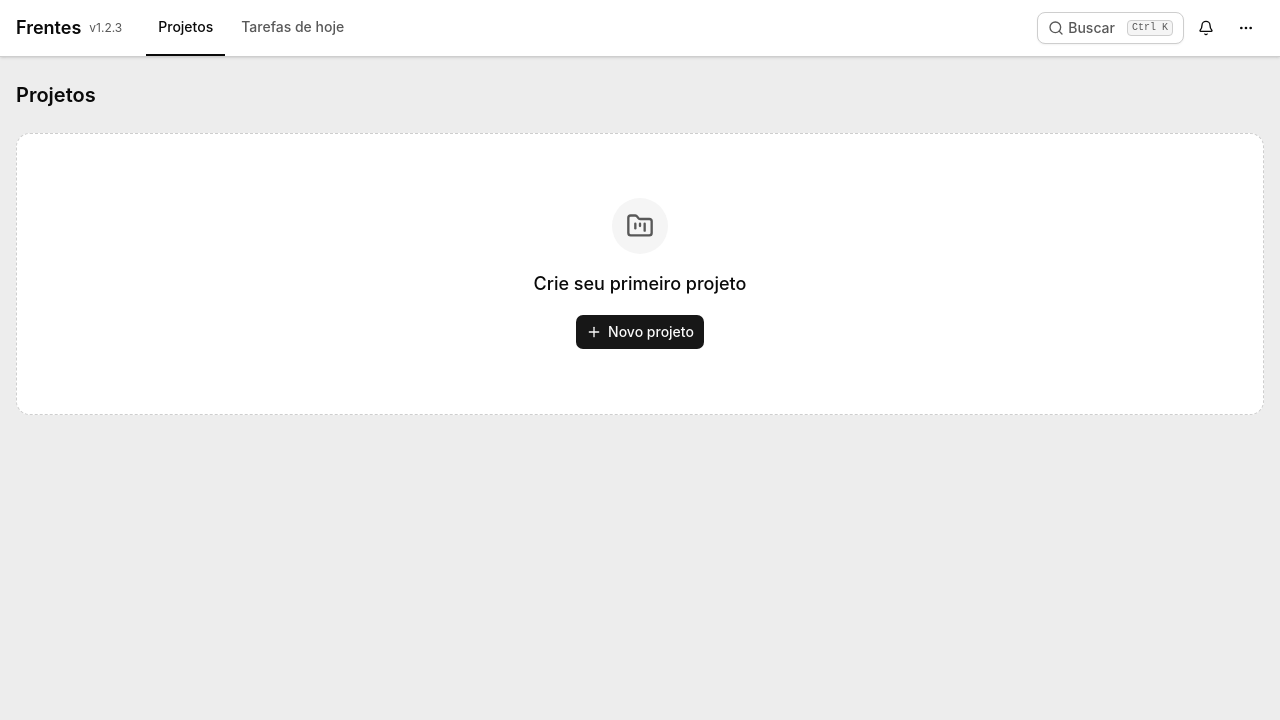
it: BuscaGlobal (01 §3, RN-120..121) › mostra os resultados por tipo, com projeto, "Arquivado" e o destino certo
This screenshot has width=1280, height=720.
Click the button "Buscar Ctrl K" at (1111, 28), box [1037,12,1184,44]
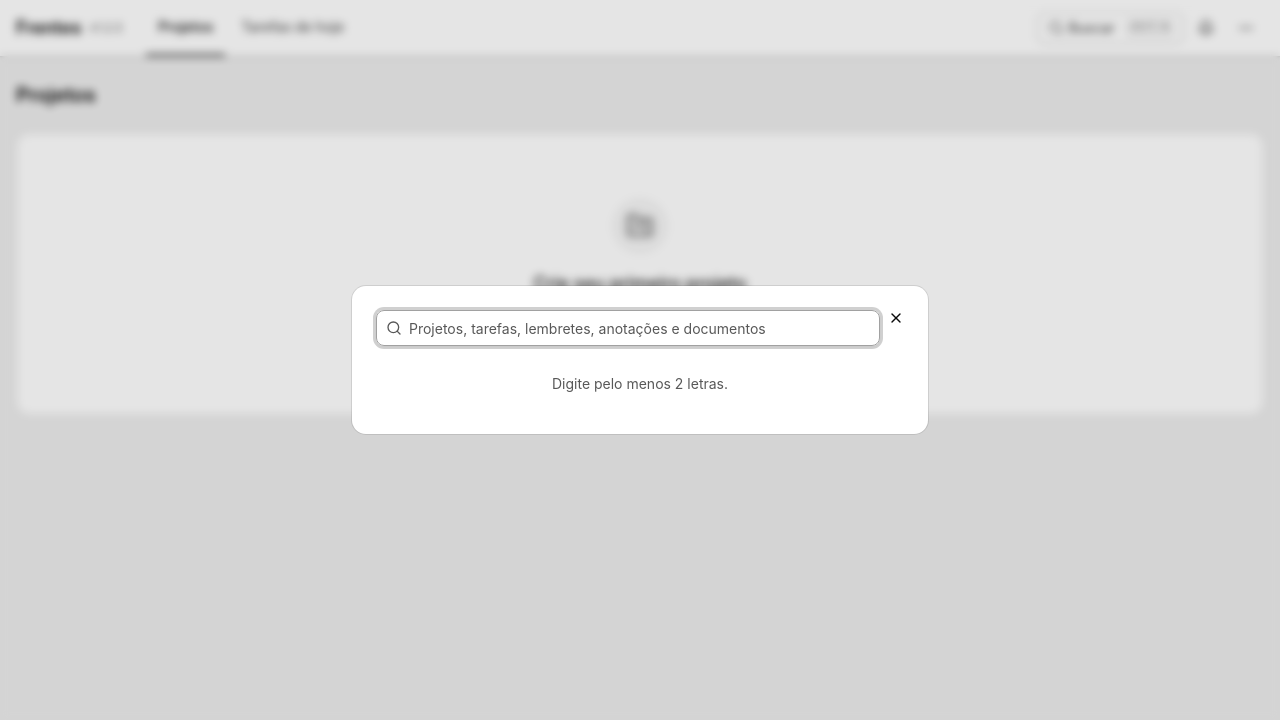
Type "cozinha" into the search field named "Buscar" at (628, 328), box [376,310,880,346]
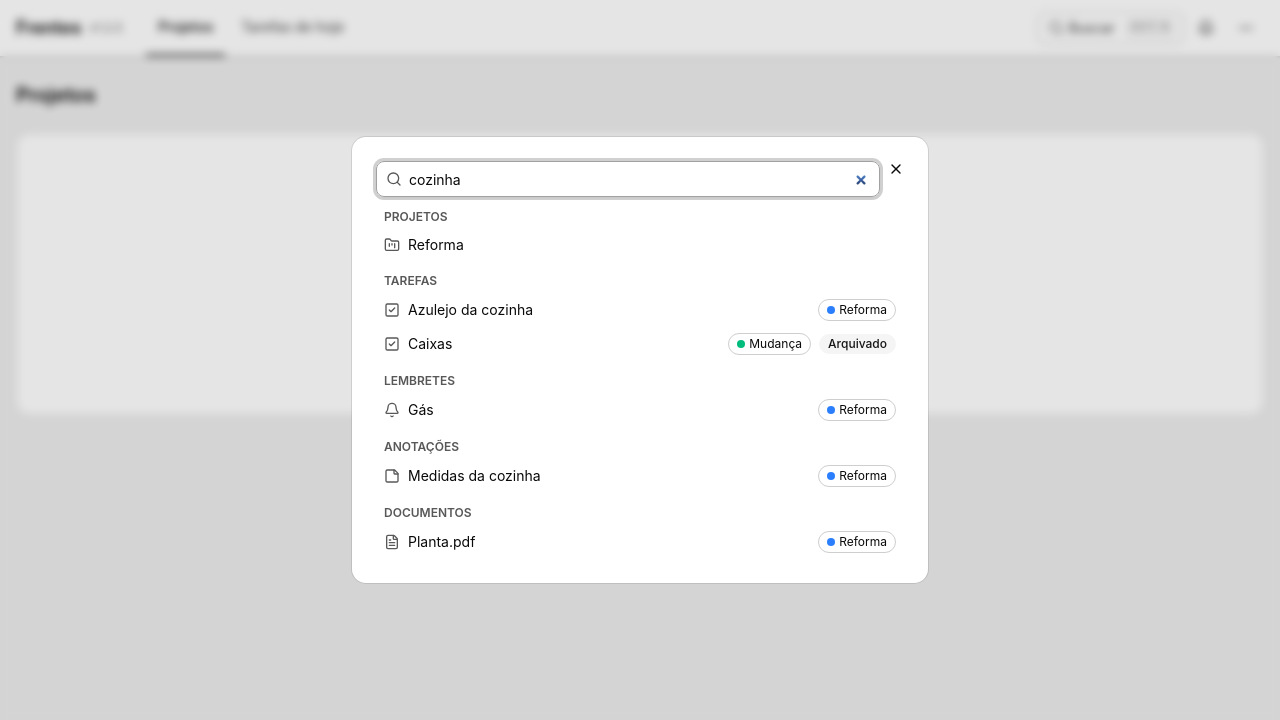
Expected: the text "Reforma" in the row of "Azulejo da cozinha" is shown, [839,302,887,317]
Expected: the text "Arquivado" is shown, [819,334,896,354]
